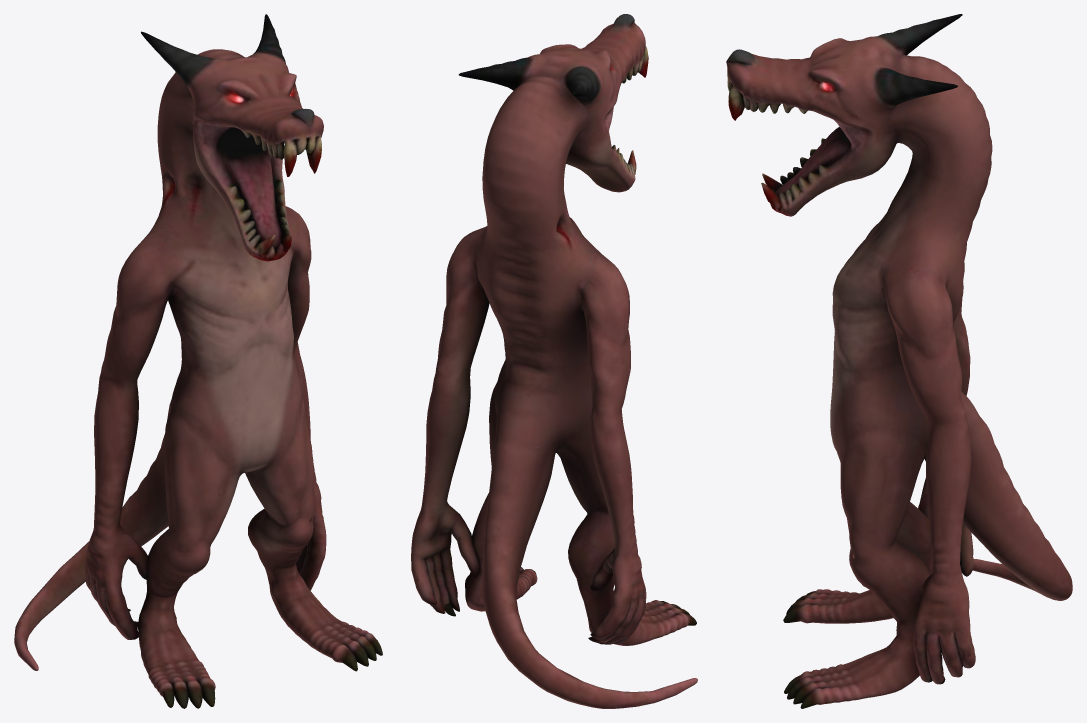
Rendered from MZ4250 - Kobold Vampire Spawn_1.glb.
The picture shows the model from 3 angles, left to right: view 1: azimuth 30°, elevation 25°; view 2: azimuth 150°, elevation 25°; view 3: azimuth 270°, elevation 25°; orthographic projection. The views are drawn at different scales.
Visible parts, largest first — view 1: Body.002; view 2: Body.002; view 3: Body.002.
Part boxes in pixels (box(x1,y1,x2,y2)): Body.002: box(14, 14, 382, 708); Body.002: box(411, 14, 697, 708); Body.002: box(726, 14, 1072, 708).
Bounding box in the file's own units: 31.48 × 63.01 × 32.08.
1 material, 1 textured.
